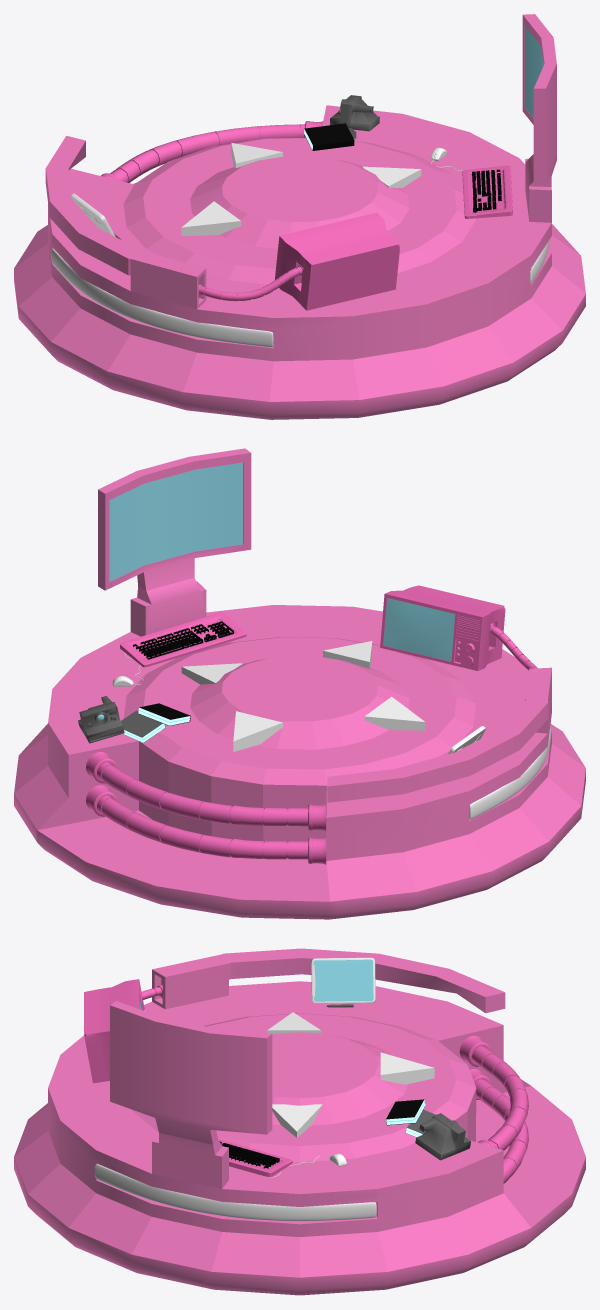
The model's file is socle.gltf.
3 renders of one model, top to bottom at view 1: azimuth 30°, elevation 25°; view 2: azimuth 150°, elevation 25°; view 3: azimuth 270°, elevation 25°, orthographic.
Parts seen in each view (by area): view 1: polySurface85; view 2: polySurface85; view 3: polySurface85.
Boxes of the visible parts, x1,y1,x2,y2 form: polySurface85: (14, 14, 585, 419); polySurface85: (14, 448, 585, 919); polySurface85: (14, 948, 585, 1295).
Bounding box in the file's own units: 5.09 × 2.41 × 5.09.
13 materials, 1 textured.
